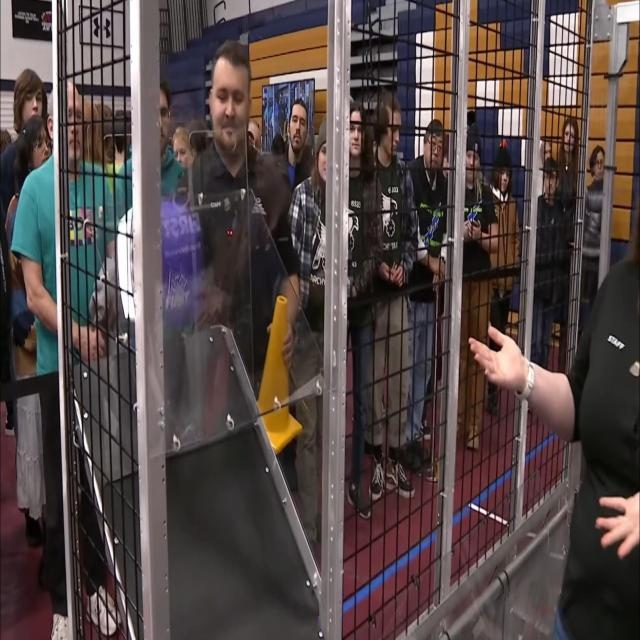frc_cone: (243, 295, 306, 452)
frc_cube: (134, 206, 202, 350)
